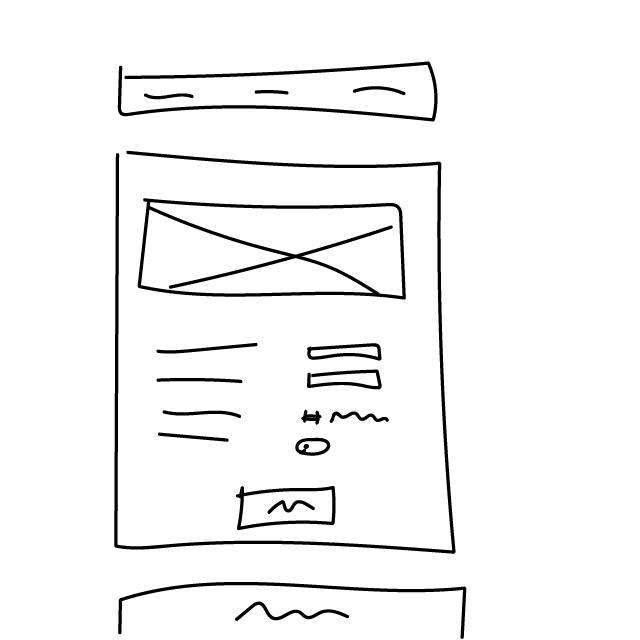button: (233, 484, 344, 533)
checkbox: (294, 437, 336, 456)
container: (107, 137, 469, 571)
footer: (106, 576, 473, 640)
frame: (137, 191, 414, 310)
heading: (298, 401, 398, 431)
input: (304, 342, 384, 365), (303, 370, 388, 391)
nav: (116, 58, 439, 123)
text: (149, 336, 270, 451)
